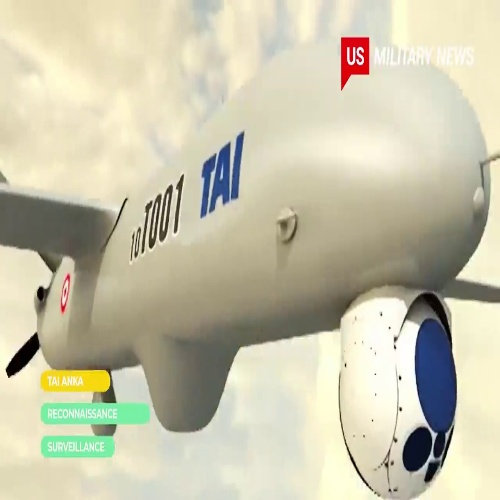uav: (1, 40, 499, 500)
